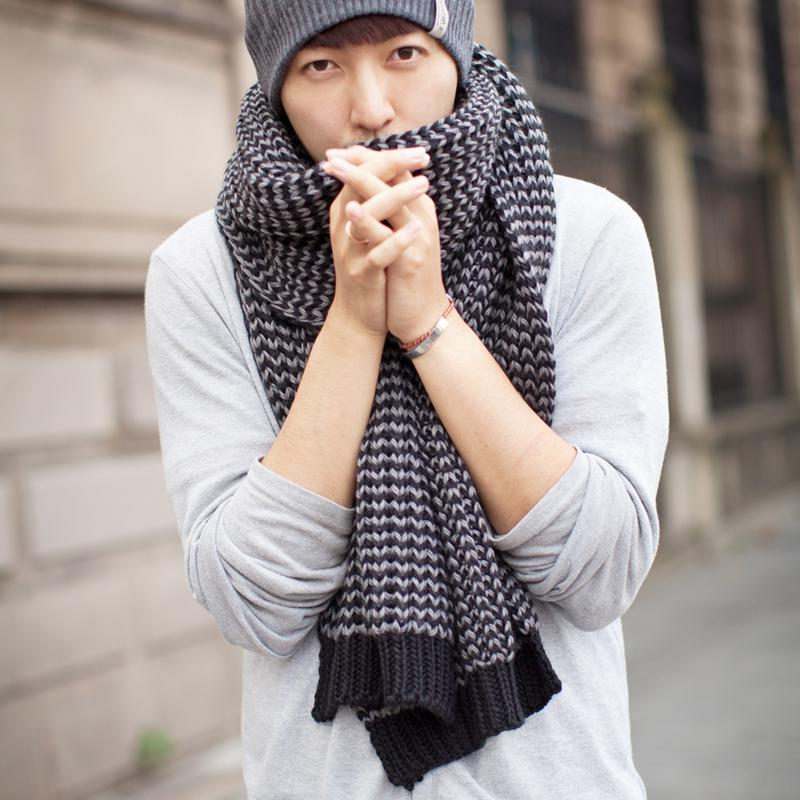WRONG: (289, 28, 445, 192)
